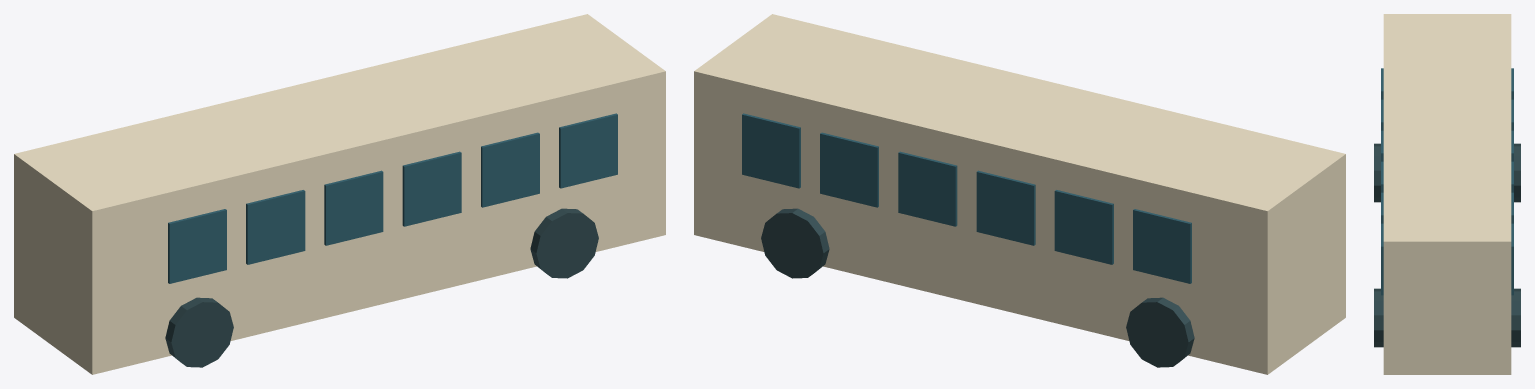
File: city-bus.glb
3 views of the same model, side by side, from view 1: azimuth 30°, elevation 25°; view 2: azimuth 150°, elevation 25°; view 3: azimuth 270°, elevation 25° (orthographic). The views are drawn at different scales.
Parts seen in each view (by area): view 1: city-bus; view 2: city-bus; view 3: city-bus.
Part boxes in pixels (<box>): city-bus: <box>14,14,665,374</box>; city-bus: <box>694,14,1345,374</box>; city-bus: <box>1374,14,1520,374</box>.
Size of the model in its own units: 11 by 3.25 by 3.
